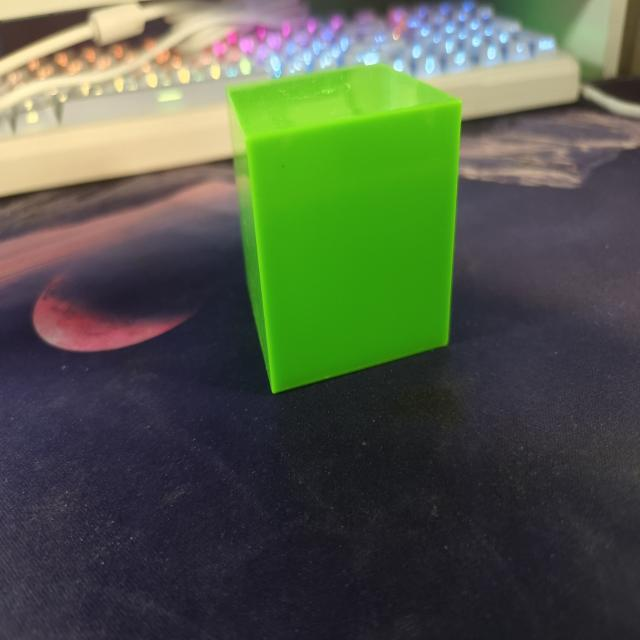green: (212, 56, 492, 418)
